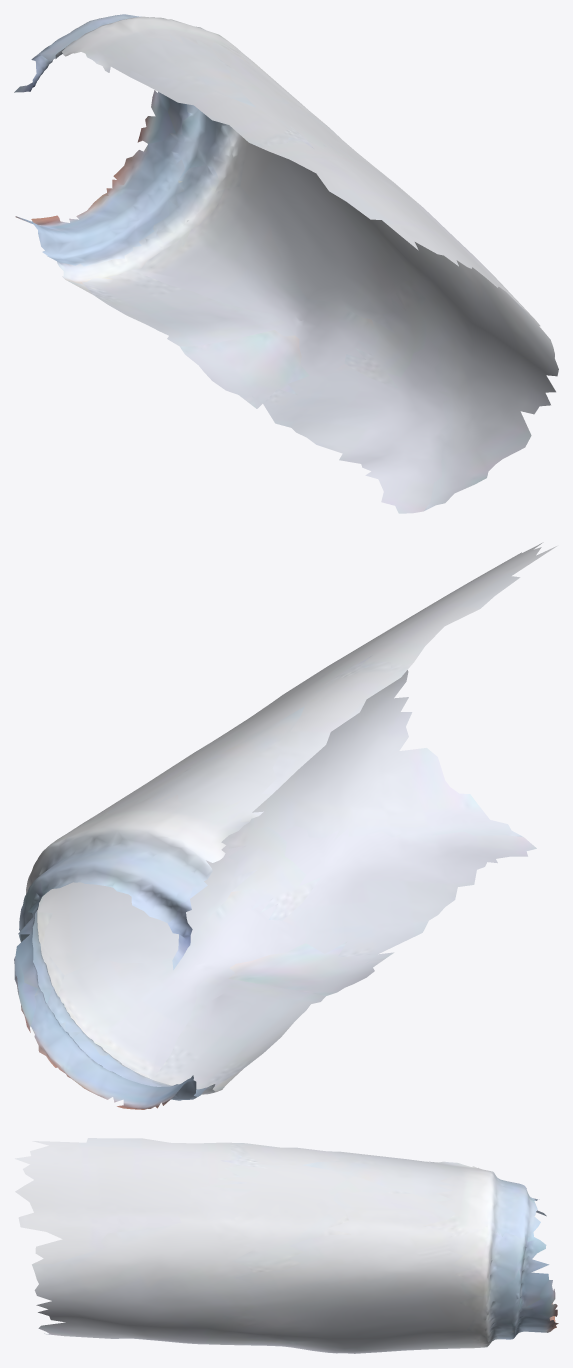
The model's file is manica-atomic.glb.
3 renders of one model, top to bottom at view 1: azimuth 30°, elevation 25°; view 2: azimuth 150°, elevation 25°; view 3: azimuth 270°, elevation 25°, orthographic. The views are drawn at different scales.
Parts seen in each view (by area): view 1: manica; view 2: manica; view 3: manica.
Boxes of the visible parts, bbox=[...] form: manica: bbox=[14, 14, 558, 513]; manica: bbox=[14, 542, 556, 1109]; manica: bbox=[15, 1138, 558, 1353].
Bounding box in the file's own units: 0.0814 × 0.1169 × 0.3051.
Materials: 1 (1 with a texture image).
